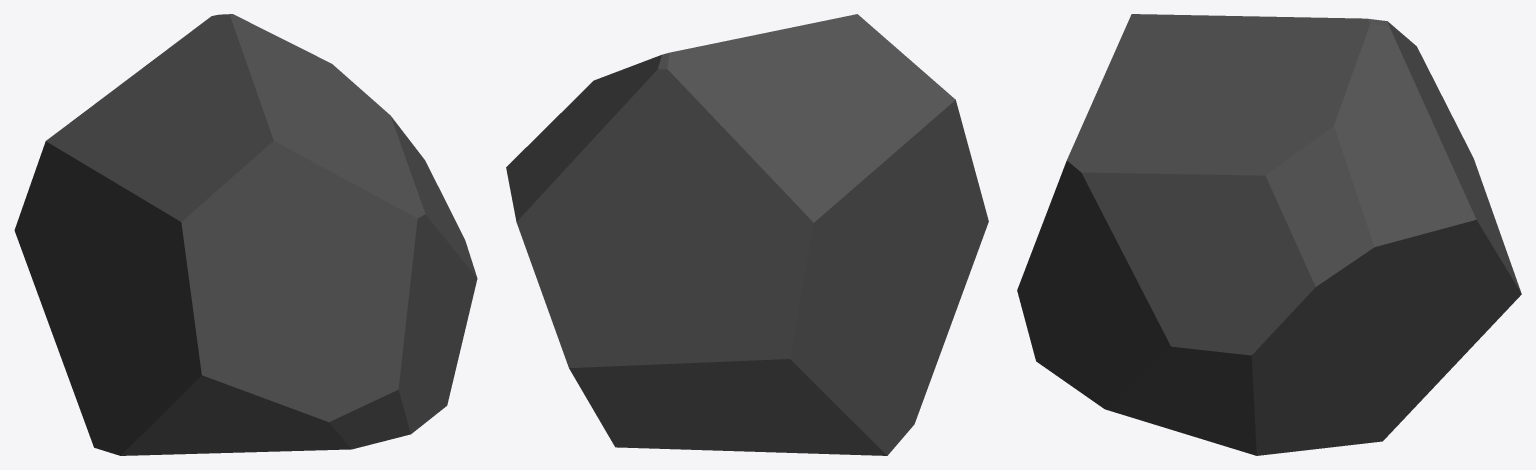
Rendered from StoneMediumSmall6.fbx.
The picture shows the model from 3 angles, left to right: view 1: azimuth 30°, elevation 25°; view 2: azimuth 150°, elevation 25°; view 3: azimuth 270°, elevation 25°; orthographic projection. The views are drawn at different scales.
Visible parts, largest first — view 1: StoneMediumSmall6; view 2: StoneMediumSmall6; view 3: StoneMediumSmall6.
Boxes of the visible parts, bbox=[...] form: StoneMediumSmall6: bbox=[14, 14, 477, 455]; StoneMediumSmall6: bbox=[506, 14, 988, 455]; StoneMediumSmall6: bbox=[1017, 14, 1521, 455].
Size of the model in its own units: 187 by 192 by 219.
Materials: 1 (1 with a texture image).
